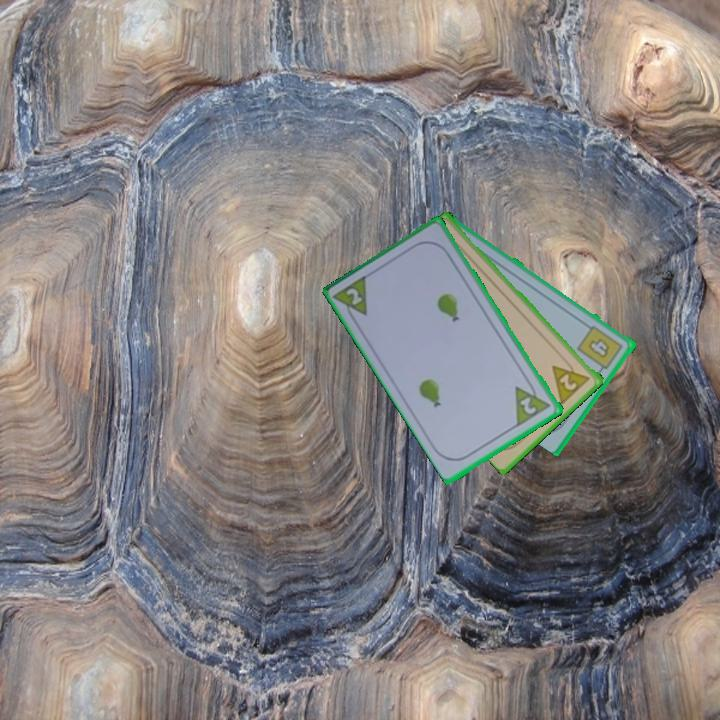2p: (549, 354, 593, 406), (331, 271, 371, 326), (517, 393, 540, 418)
4b: (574, 322, 626, 376)
